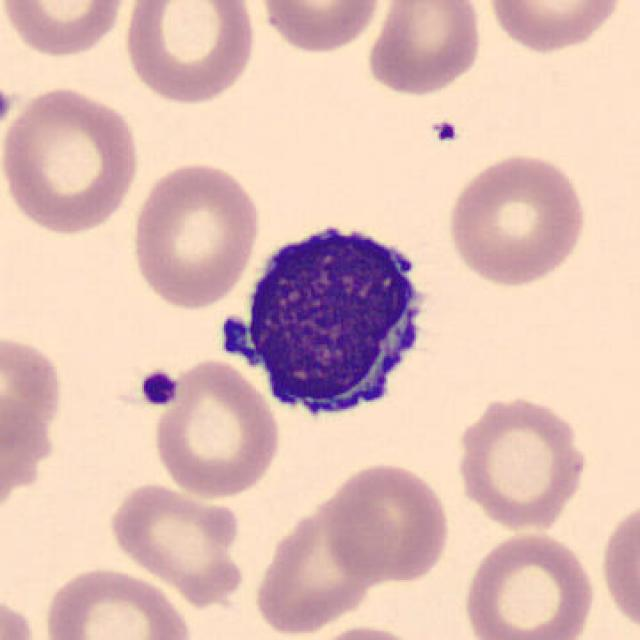Lymphocyte: (208, 206, 446, 434)
Platelets: (137, 367, 181, 411), (427, 115, 462, 148), (0, 86, 14, 130)
RBC: (249, 485, 398, 638), (0, 81, 144, 238), (126, 157, 265, 312), (443, 148, 590, 289), (450, 390, 592, 532), (150, 354, 284, 501), (105, 478, 245, 603), (320, 458, 453, 586), (459, 527, 599, 640), (119, 0, 260, 108), (363, 0, 487, 99), (39, 564, 196, 640), (0, 328, 68, 458), (481, 0, 627, 56), (0, 0, 132, 60), (252, 0, 386, 55), (595, 495, 640, 636), (0, 396, 57, 505), (298, 622, 434, 640), (0, 589, 43, 640)
